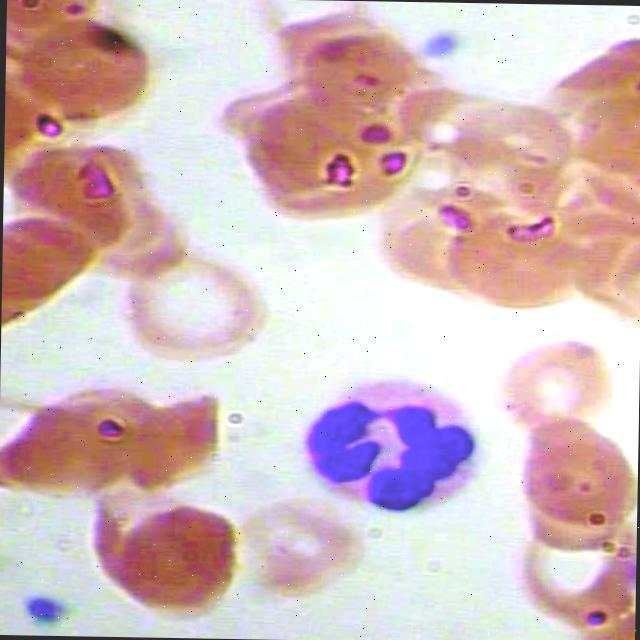Platelets: (17, 588, 78, 636), (415, 23, 460, 61)
RBC: (117, 244, 277, 380), (240, 106, 400, 242), (98, 482, 246, 628), (3, 10, 158, 134), (102, 374, 238, 500), (1, 132, 133, 258), (0, 394, 128, 520), (428, 92, 573, 202), (278, 18, 423, 128), (484, 329, 628, 439), (434, 206, 578, 316), (496, 448, 638, 558), (494, 521, 636, 631), (498, 410, 638, 520), (224, 491, 360, 592), (552, 35, 640, 129)
WBC: (293, 353, 487, 530)
